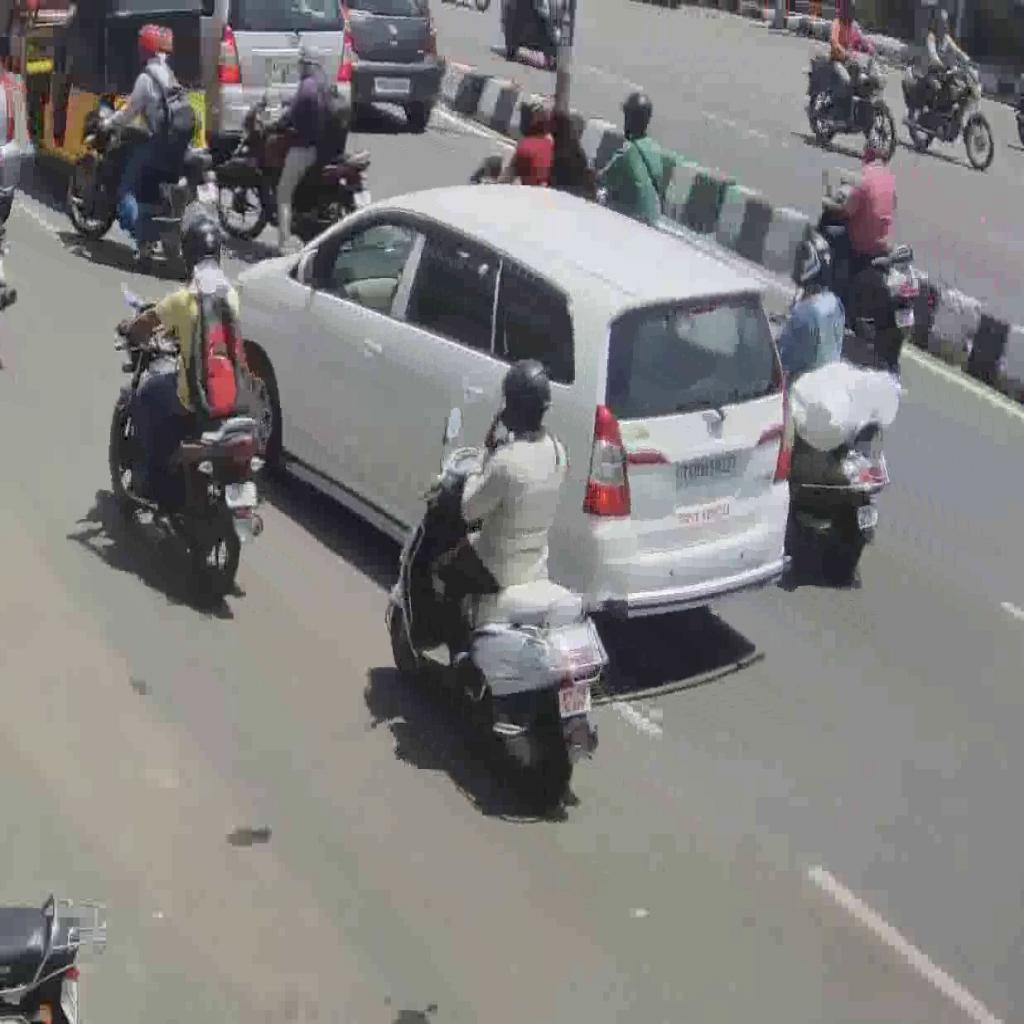helmet: (386, 440, 610, 825), (107, 317, 270, 596), (66, 88, 226, 268), (217, 98, 379, 244), (796, 188, 921, 362)
